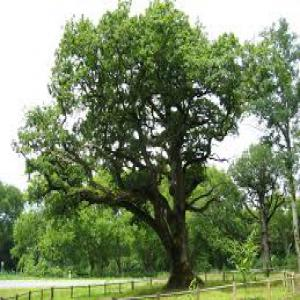Tree: (7, 0, 234, 289)
